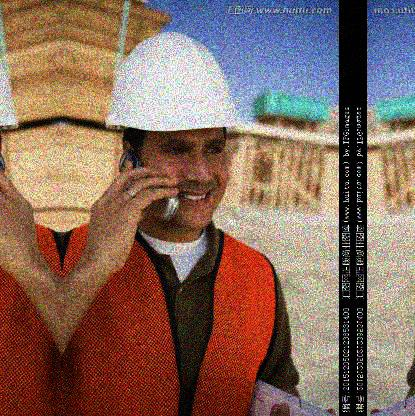helmet: (102, 29, 244, 229)
